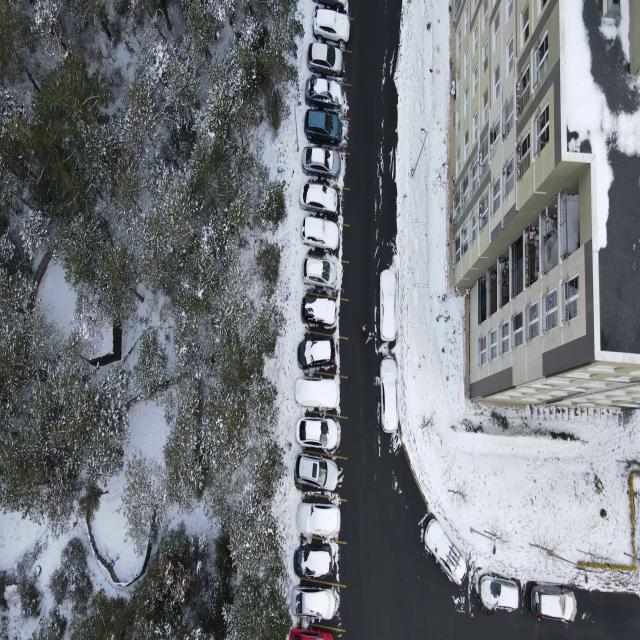p3rson: (365, 331, 374, 344), (361, 322, 367, 334)
